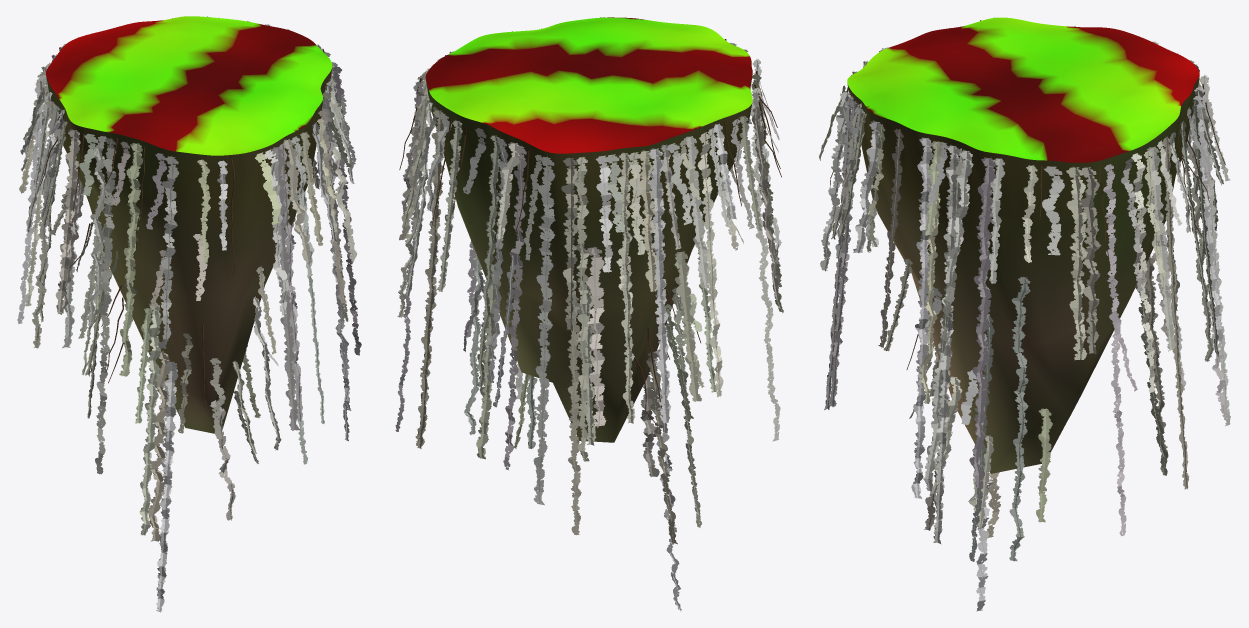
Rendered from SM_H14_Floater06.fbx.
The picture shows the model from 3 angles, left to right: view 1: azimuth 30°, elevation 25°; view 2: azimuth 150°, elevation 25°; view 3: azimuth 270°, elevation 25°; orthographic projection. The views are drawn at different scales.
Parts seen in each view (by area): view 1: SM_H14_Floater06, SM_H14_Floater06_Ivy; view 2: SM_H14_Floater06, SM_H14_Floater06_Ivy; view 3: SM_H14_Floater06, SM_H14_Floater06_Ivy.
Boxes of the visible parts, x1=… form: SM_H14_Floater06: x1=46, y1=16, x2=332, y2=433; SM_H14_Floater06_Ivy: x1=17, y1=16, x2=361, y2=612; SM_H14_Floater06: x1=425, y1=17, x2=752, y2=442; SM_H14_Floater06_Ivy: x1=395, y1=17, x2=783, y2=611; SM_H14_Floater06: x1=847, y1=17, x2=1199, y2=473; SM_H14_Floater06_Ivy: x1=819, y1=17, x2=1230, y2=611.
Bounding box in the file's own units: 27.65 × 42.12 × 28.22.
